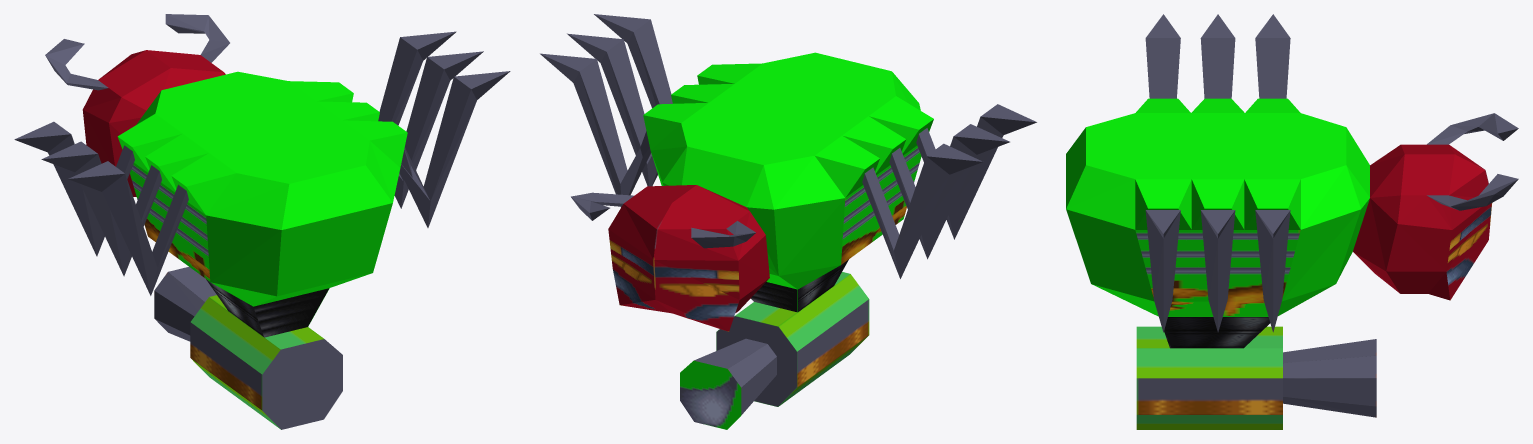
File: GUNSP.obj
3 renders of one model, left to right at view 1: azimuth 30°, elevation 25°; view 2: azimuth 150°, elevation 25°; view 3: azimuth 270°, elevation 25°, orthographic.
Parts seen in each view (by area): view 1: GUNSP_node06_face01, GUNSP_node00_face01, GUNSP_node06_face00, GUNSP_node31_face06, GUNSP_node31_face02, GUNSP_node31_face07, GUNSP_node31_face03, GUNSP_node31_face08, GUNSP_node31_face04, GUNSP_node31_face05, GUNSP_node31_face12, GUNSP_node02_face01 (+10 smaller); view 2: GUNSP_node06_face01, GUNSP_node00_face01, GUNSP_node06_face00, GUNSP_node31_face08, GUNSP_node31_face07, GUNSP_node31_face05, GUNSP_node31_face06, GUNSP_node31_face02, GUNSP_node31_face04, GUNSP_node31_face03, GUNSP_node31_face14, GUNSP_node05_face00 (+9 smaller); view 3: GUNSP_node06_face01, GUNSP_node00_face01, GUNSP_node06_face00, GUNSP_node31_face02, GUNSP_node31_face07, GUNSP_node31_face08, GUNSP_node31_face06, GUNSP_node31_face03, GUNSP_node31_face05, GUNSP_node31_face04, GUNSP_node00_face00, GUNSP_node02_face01 (+7 smaller).
Part boxes in pixels (x1,y1,x2,y2): GUNSP_node06_face01: (82,50,407,306); GUNSP_node00_face01: (154,267,342,429); GUNSP_node06_face00: (83,50,407,306); GUNSP_node31_face06: (423,77,476,227); GUNSP_node31_face02: (206,279,329,337); GUNSP_node31_face07: (399,57,450,208); GUNSP_node31_face03: (102,174,157,295); GUNSP_node31_face08: (378,37,422,125); GUNSP_node31_face04: (75,154,129,275); GUNSP_node31_face05: (48,134,102,256); GUNSP_node31_face12: (151,184,188,295); GUNSP_node02_face01: (165,14,229,42); GUNSP_node06_face01: (608,52,933,331); GUNSP_node00_face01: (680,272,869,429); GUNSP_node06_face00: (608,75,921,331); GUNSP_node31_face08: (573,59,627,207); GUNSP_node31_face07: (600,39,651,186); GUNSP_node31_face05: (894,156,949,278); GUNSP_node31_face06: (627,19,672,108); GUNSP_node31_face02: (751,259,848,312); GUNSP_node31_face04: (921,136,976,259); GUNSP_node31_face03: (948,117,1003,239); GUNSP_node31_face14: (862,167,900,278); GUNSP_node05_face00: (980,104,1036,134); GUNSP_node06_face01: (1066,98,1492,316); GUNSP_node00_face01: (1136,326,1376,429); GUNSP_node06_face00: (1092,144,1488,316); GUNSP_node31_face02: (1164,317,1270,348); GUNSP_node31_face07: (1200,210,1235,332); GUNSP_node31_face08: (1255,210,1290,332); GUNSP_node31_face06: (1145,210,1180,332); GUNSP_node31_face03: (1145,38,1180,98); GUNSP_node31_face05: (1255,38,1290,98); GUNSP_node31_face04: (1200,38,1235,98); GUNSP_node00_face00: (1136,348,1282,377); GUNSP_node02_face01: (1451,174,1518,210).
Size of the model in its own units: 812 by 508 by 706.
